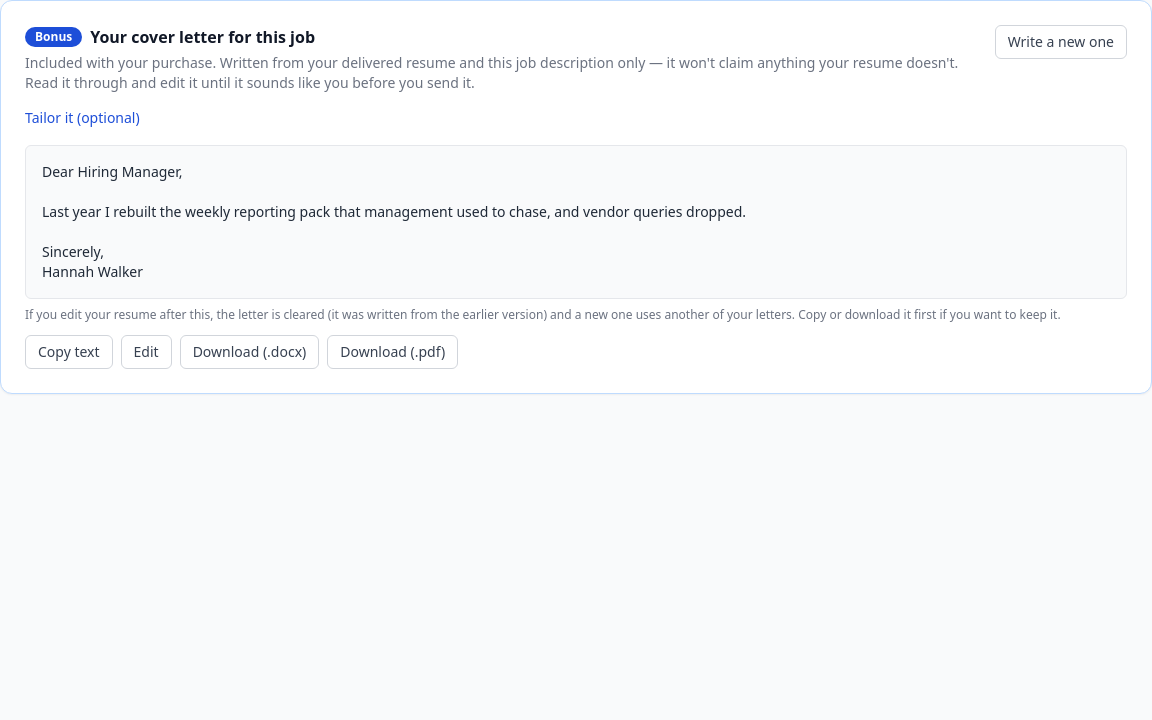
it: CoverLetterPanel — the person can edit the letter, and a new one never silently replaces their edits › a failed save says so and keeps the editor open with the text
This screenshot has width=1152, height=720.
Step 1. Click the button "Edit" → (146, 352), box x1=121 y1=335 x2=172 y2=369
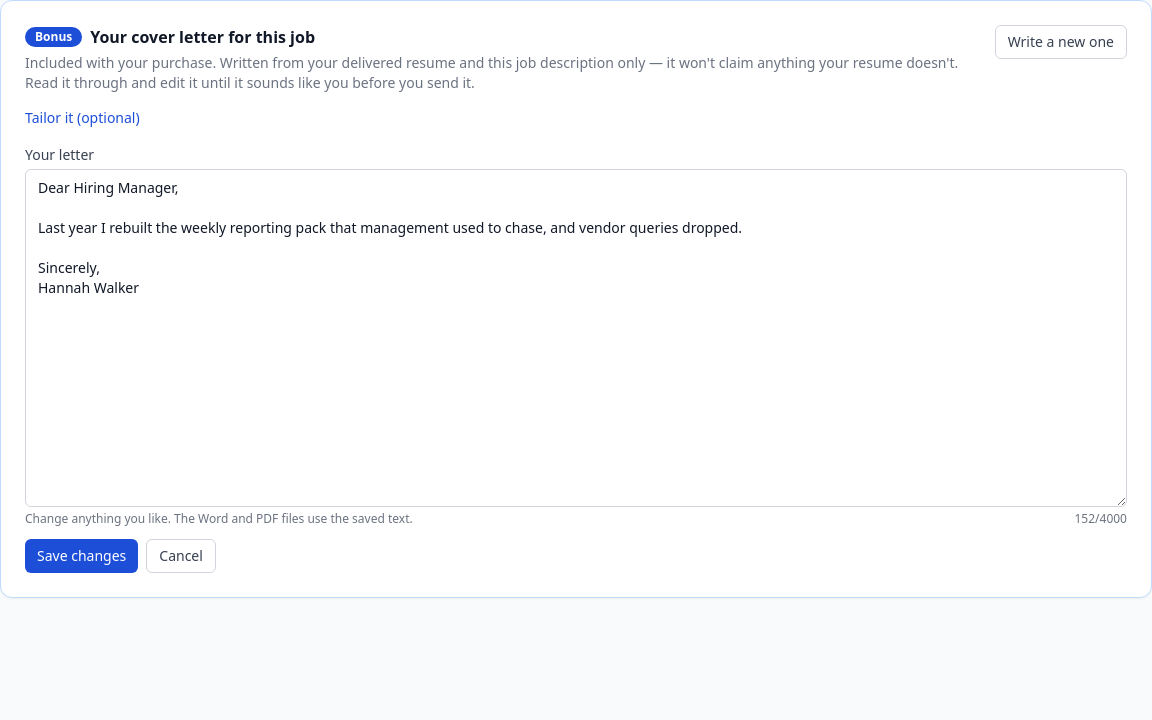
Step 2. Click the button "Save changes" → (82, 556), box x1=25 y1=539 x2=138 y2=573
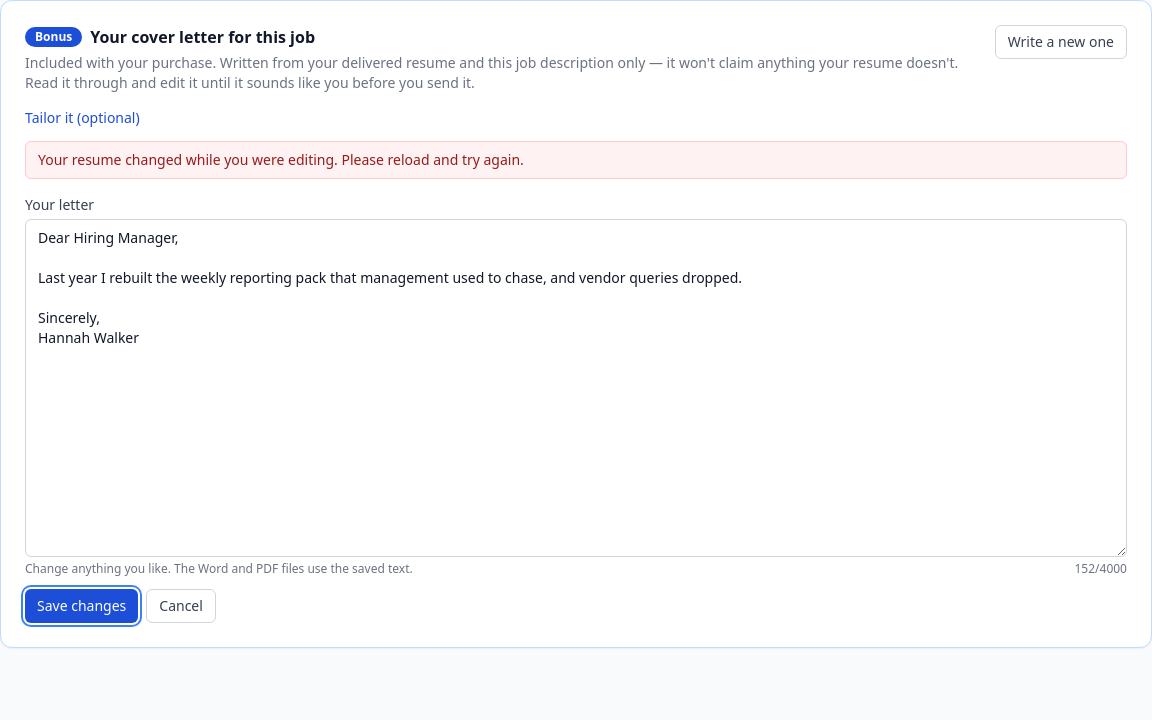
expect the text "Your resume changed while you were editing. Please reload and try again." is shown: met, box x1=25 y1=141 x2=1127 y2=179
